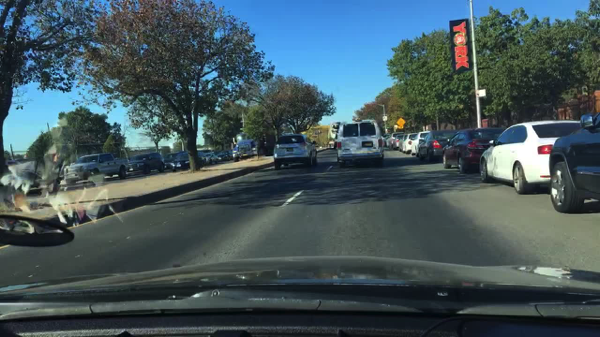car: (478, 120, 581, 196), (548, 110, 599, 213), (442, 127, 507, 175), (336, 119, 385, 168), (273, 132, 317, 169), (414, 130, 458, 165), (0, 169, 48, 197), (128, 152, 164, 176), (171, 149, 205, 172), (408, 131, 432, 157), (387, 132, 405, 148), (403, 133, 416, 154), (163, 152, 178, 170), (203, 152, 219, 165), (217, 150, 233, 162), (394, 133, 404, 149), (398, 135, 408, 151), (381, 133, 390, 148)
traffic sign: (396, 118, 405, 129), (477, 89, 486, 97), (381, 116, 388, 123), (394, 125, 398, 130)
truck: (63, 153, 130, 185), (232, 133, 267, 162)
